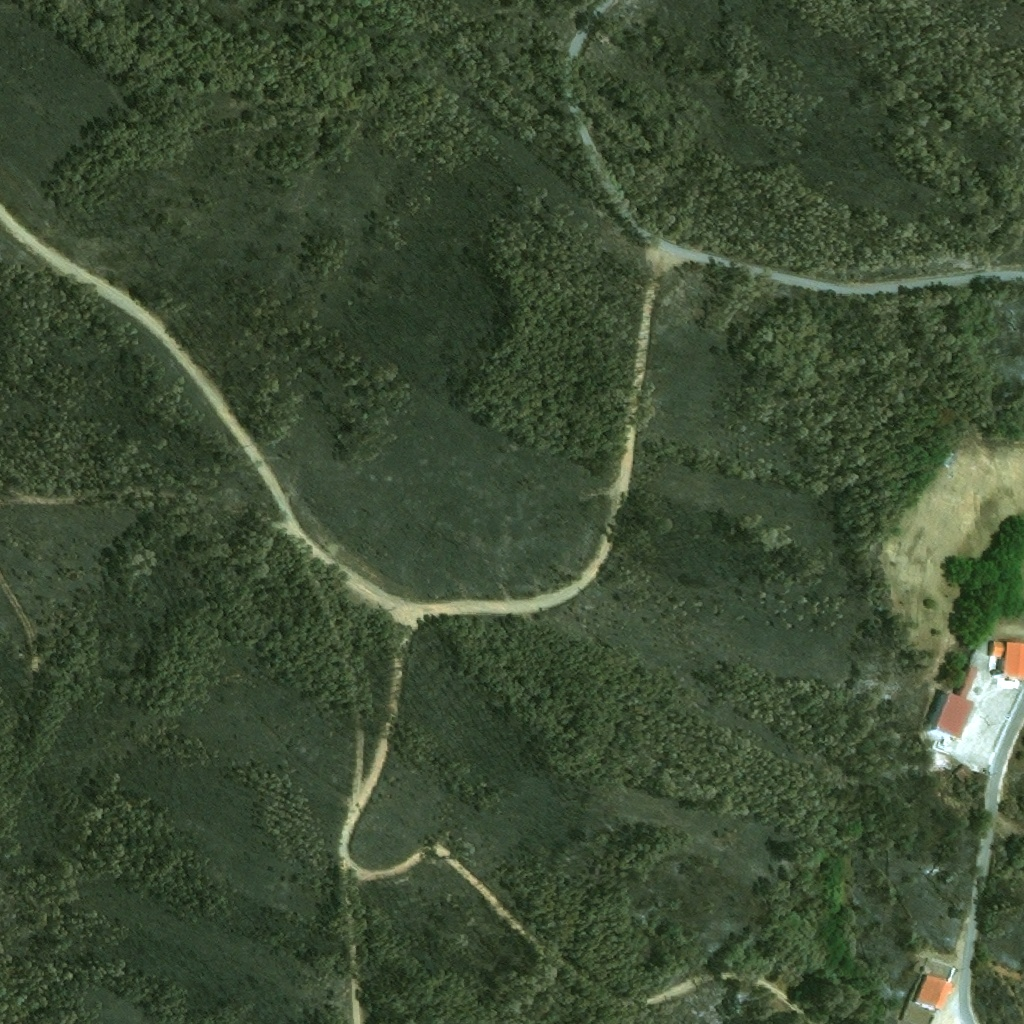0 no-damage: (930, 666, 979, 739), (910, 972, 953, 1014), (1002, 640, 1023, 678), (952, 763, 972, 783), (986, 640, 1005, 658)
